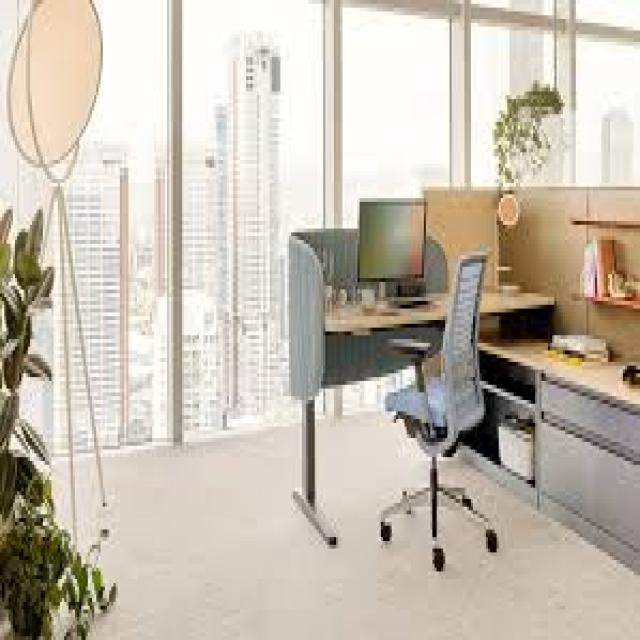chair: (348, 230, 516, 601)
